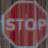Stop: (3, 2, 47, 46)
